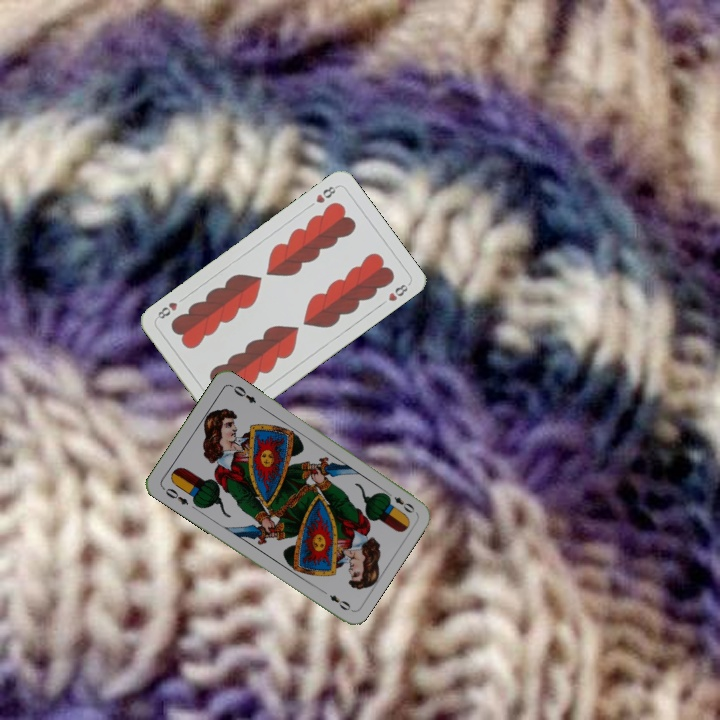EO: (382, 488, 417, 516), (158, 483, 191, 508)
H8: (312, 182, 340, 206)
